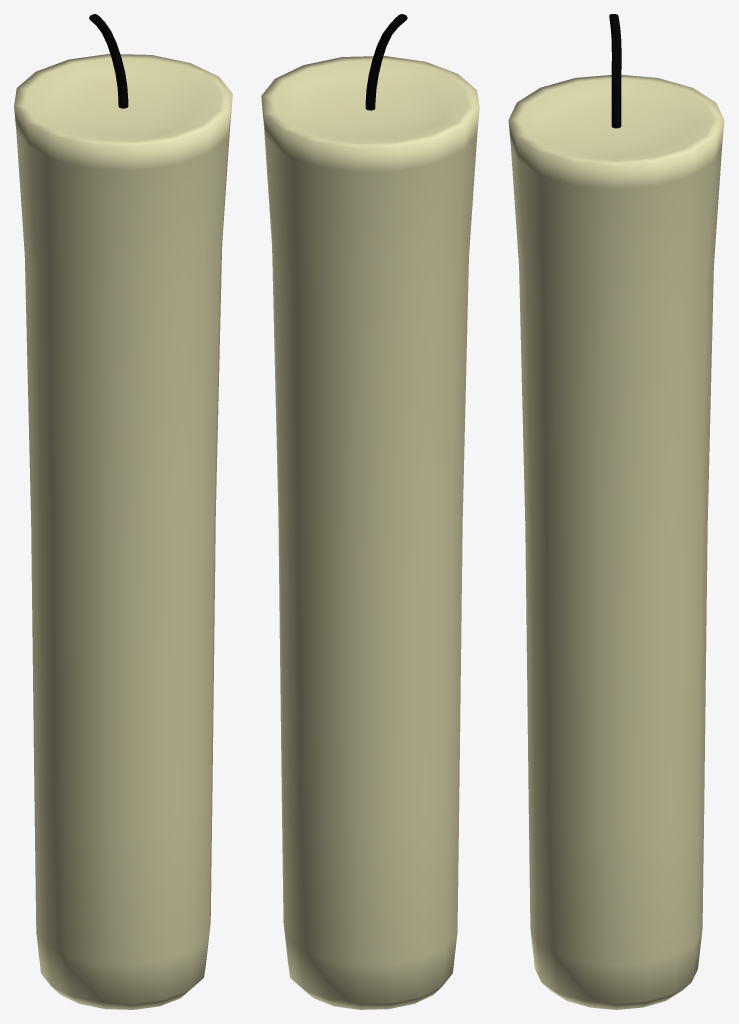
Rendered from candle.glb.
3 views of the same model, side by side, from view 1: azimuth 30°, elevation 25°; view 2: azimuth 150°, elevation 25°; view 3: azimuth 270°, elevation 25° (orthographic). The views are drawn at different scales.
Parts seen in each view (by area): view 1: Vela; view 2: Vela; view 3: Vela.
Boxes of the visible parts, x1=… form: Vela: x1=14, y1=14, x2=232, y2=1009; Vela: x1=261, y1=14, x2=479, y2=1009; Vela: x1=508, y1=14, x2=724, y2=1009.
Bounding box in the file's own units: 0.0338 × 0.1644 × 0.0338.
